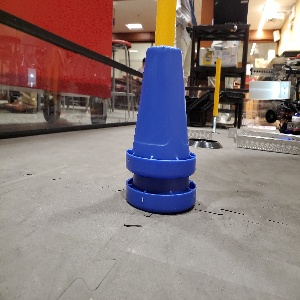Blue_2: (126, 44, 196, 215)
